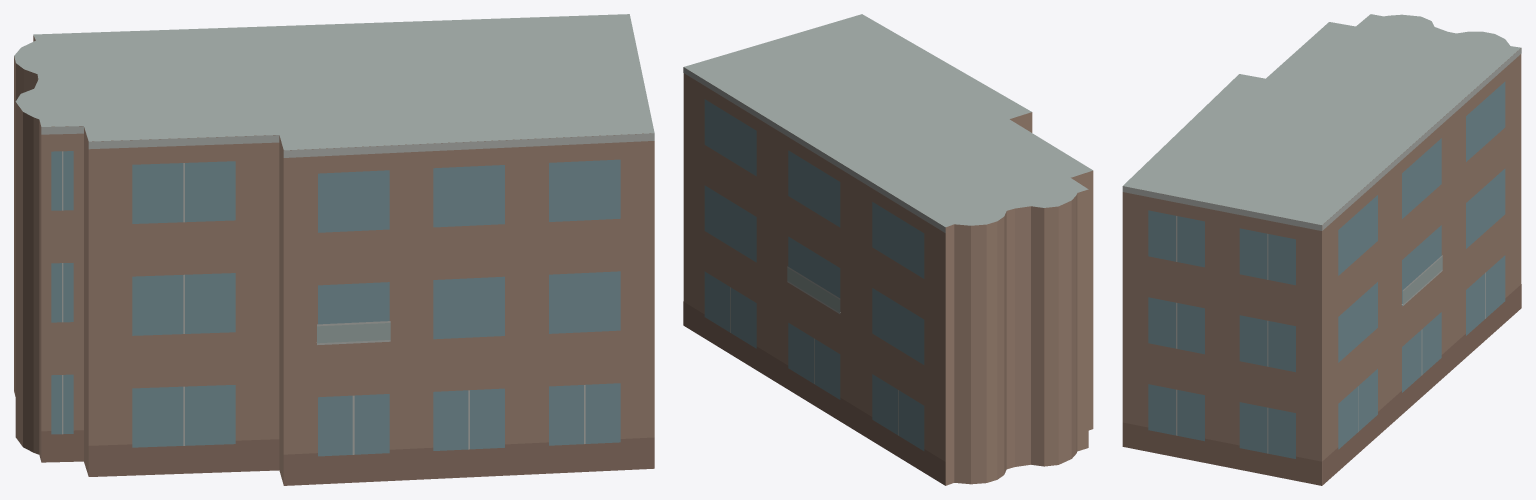
The model's file is survey-upis-32525595.glb.
3 views of the same model, side by side, from view 1: azimuth 30°, elevation 25°; view 2: azimuth 150°, elevation 25°; view 3: azimuth 270°, elevation 25° (orthographic). The views are drawn at different scales.
Visible parts, largest first — view 1: survey-upis-32525595.tmp; view 2: survey-upis-32525595.tmp; view 3: survey-upis-32525595.tmp.
Boxes of the visible parts, x1=… form: survey-upis-32525595.tmp: x1=14, y1=14, x2=654, y2=485; survey-upis-32525595.tmp: x1=683, y1=14, x2=1093, y2=485; survey-upis-32525595.tmp: x1=1122, y1=14, x2=1521, y2=485.
Bounding box in the file's own units: 18.6 × 10.7 × 14.85.
